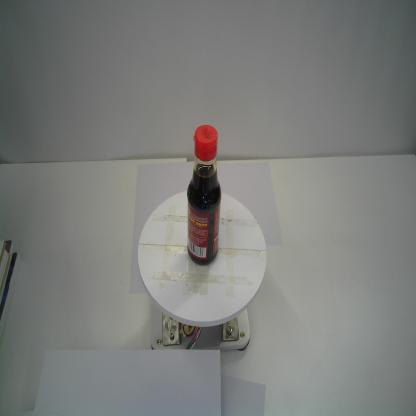Seasoner: (186, 124, 222, 267)
